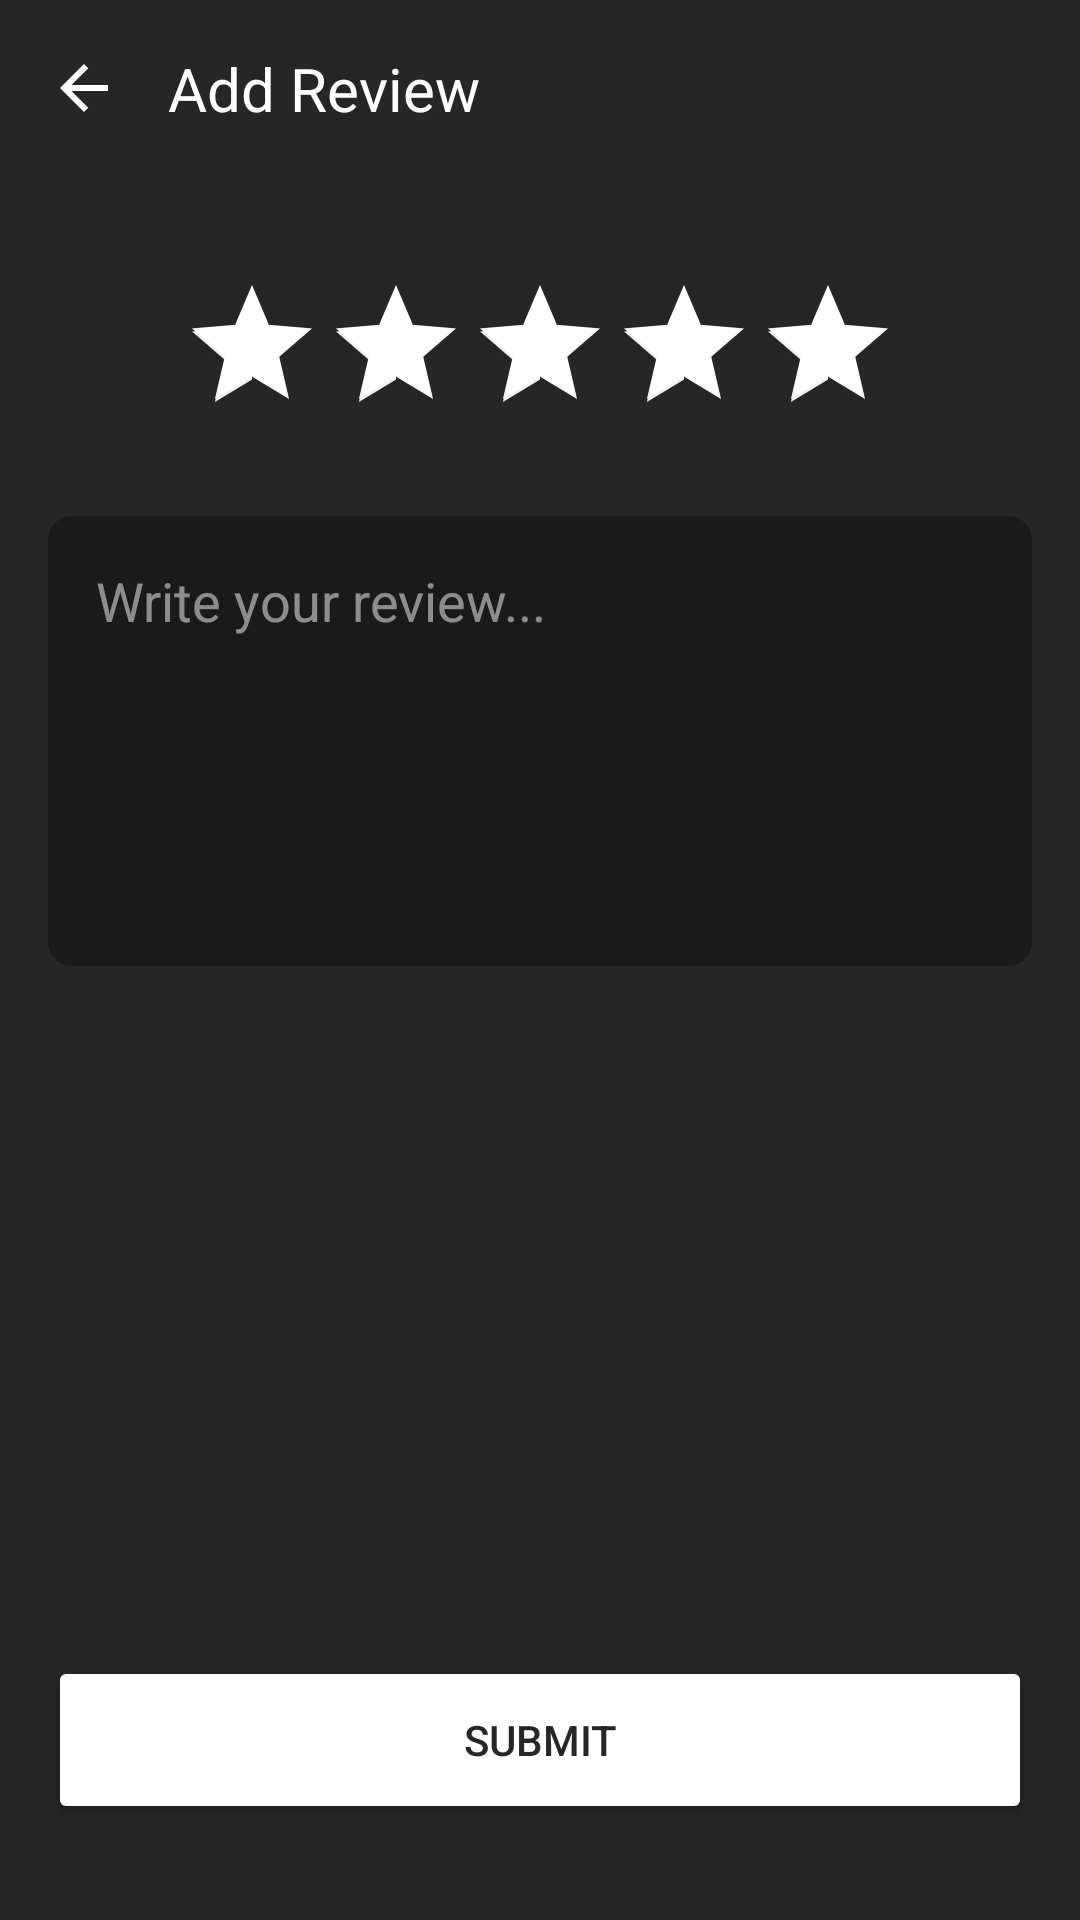

Locate icon controls on the screen. Image size 1080x1920, boxes as (x1,y1,x2,y2).
back: (60,64,108,112)
